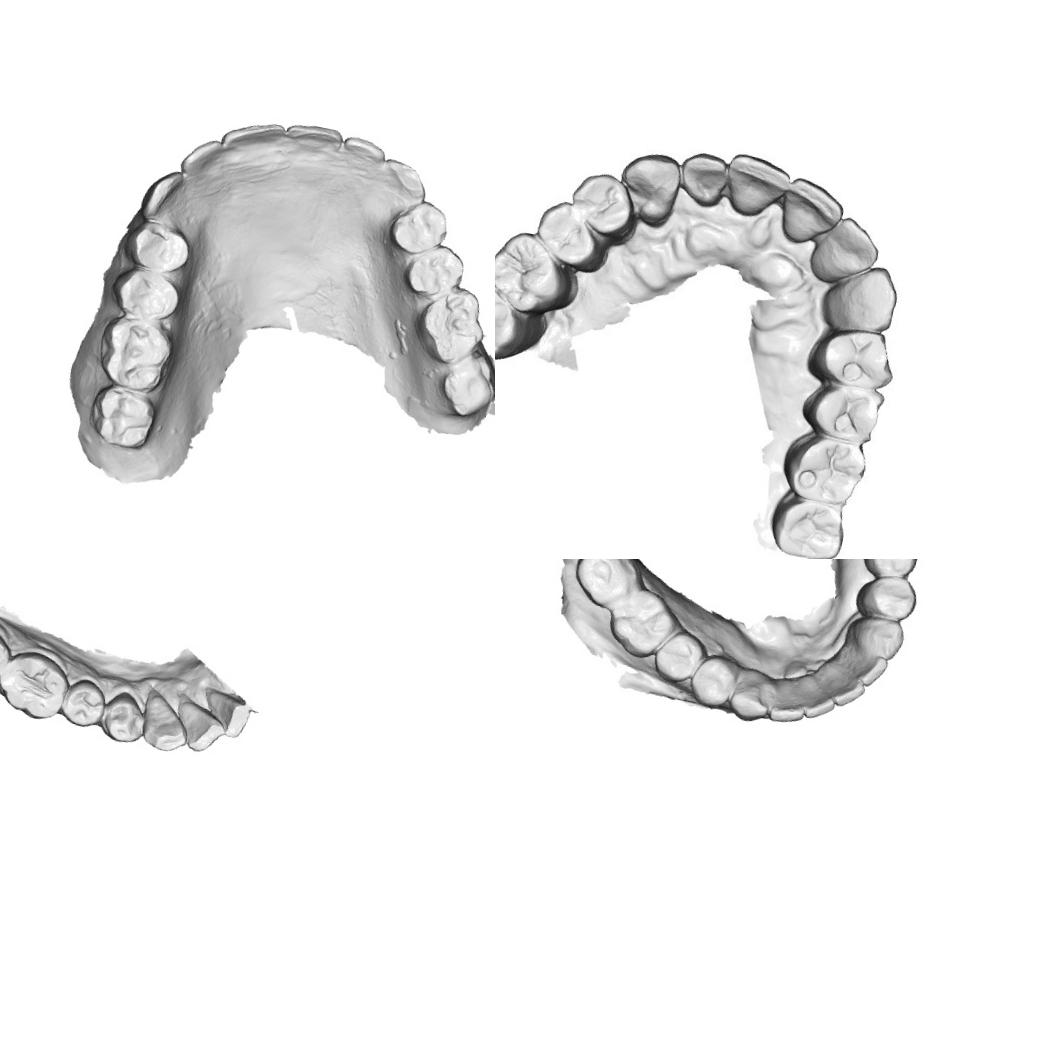canine: (813, 253, 906, 341), (614, 148, 684, 235), (135, 164, 195, 229), (137, 690, 194, 756), (844, 609, 908, 664), (372, 154, 431, 213), (724, 665, 776, 726)
incisor: (718, 149, 797, 230), (802, 214, 880, 292), (776, 175, 844, 249), (670, 146, 738, 214), (218, 112, 286, 172), (276, 115, 346, 172), (168, 697, 230, 757), (198, 686, 254, 741), (176, 131, 226, 191), (763, 674, 812, 728), (790, 673, 839, 724), (818, 665, 870, 712), (336, 132, 390, 176), (836, 647, 890, 690)
molar: (495, 222, 588, 322), (772, 424, 871, 508), (408, 277, 494, 369), (91, 308, 179, 394), (763, 480, 857, 559), (600, 581, 684, 664), (495, 273, 560, 377), (82, 377, 162, 455), (0, 644, 73, 724), (428, 348, 495, 426), (567, 559, 647, 614), (0, 613, 19, 695)
premolar: (555, 164, 648, 256), (526, 193, 619, 284), (800, 316, 902, 396), (795, 375, 891, 447), (106, 260, 186, 325), (117, 214, 198, 278), (398, 236, 470, 303), (382, 192, 454, 258), (648, 624, 712, 690), (683, 649, 740, 712), (855, 569, 920, 624), (97, 686, 150, 746), (57, 674, 108, 730), (858, 559, 922, 584)
